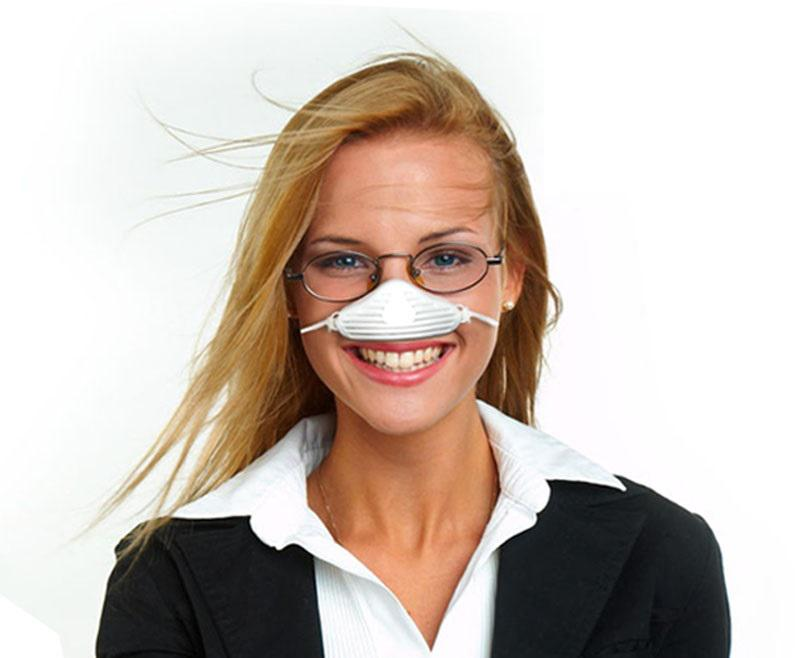WRONG: (285, 217, 501, 433)
